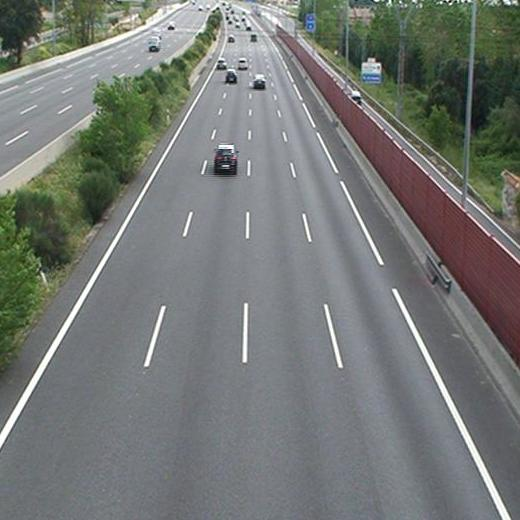car: (214, 146, 237, 170), (253, 74, 266, 87), (225, 69, 237, 82), (237, 58, 248, 69), (216, 59, 227, 69)
